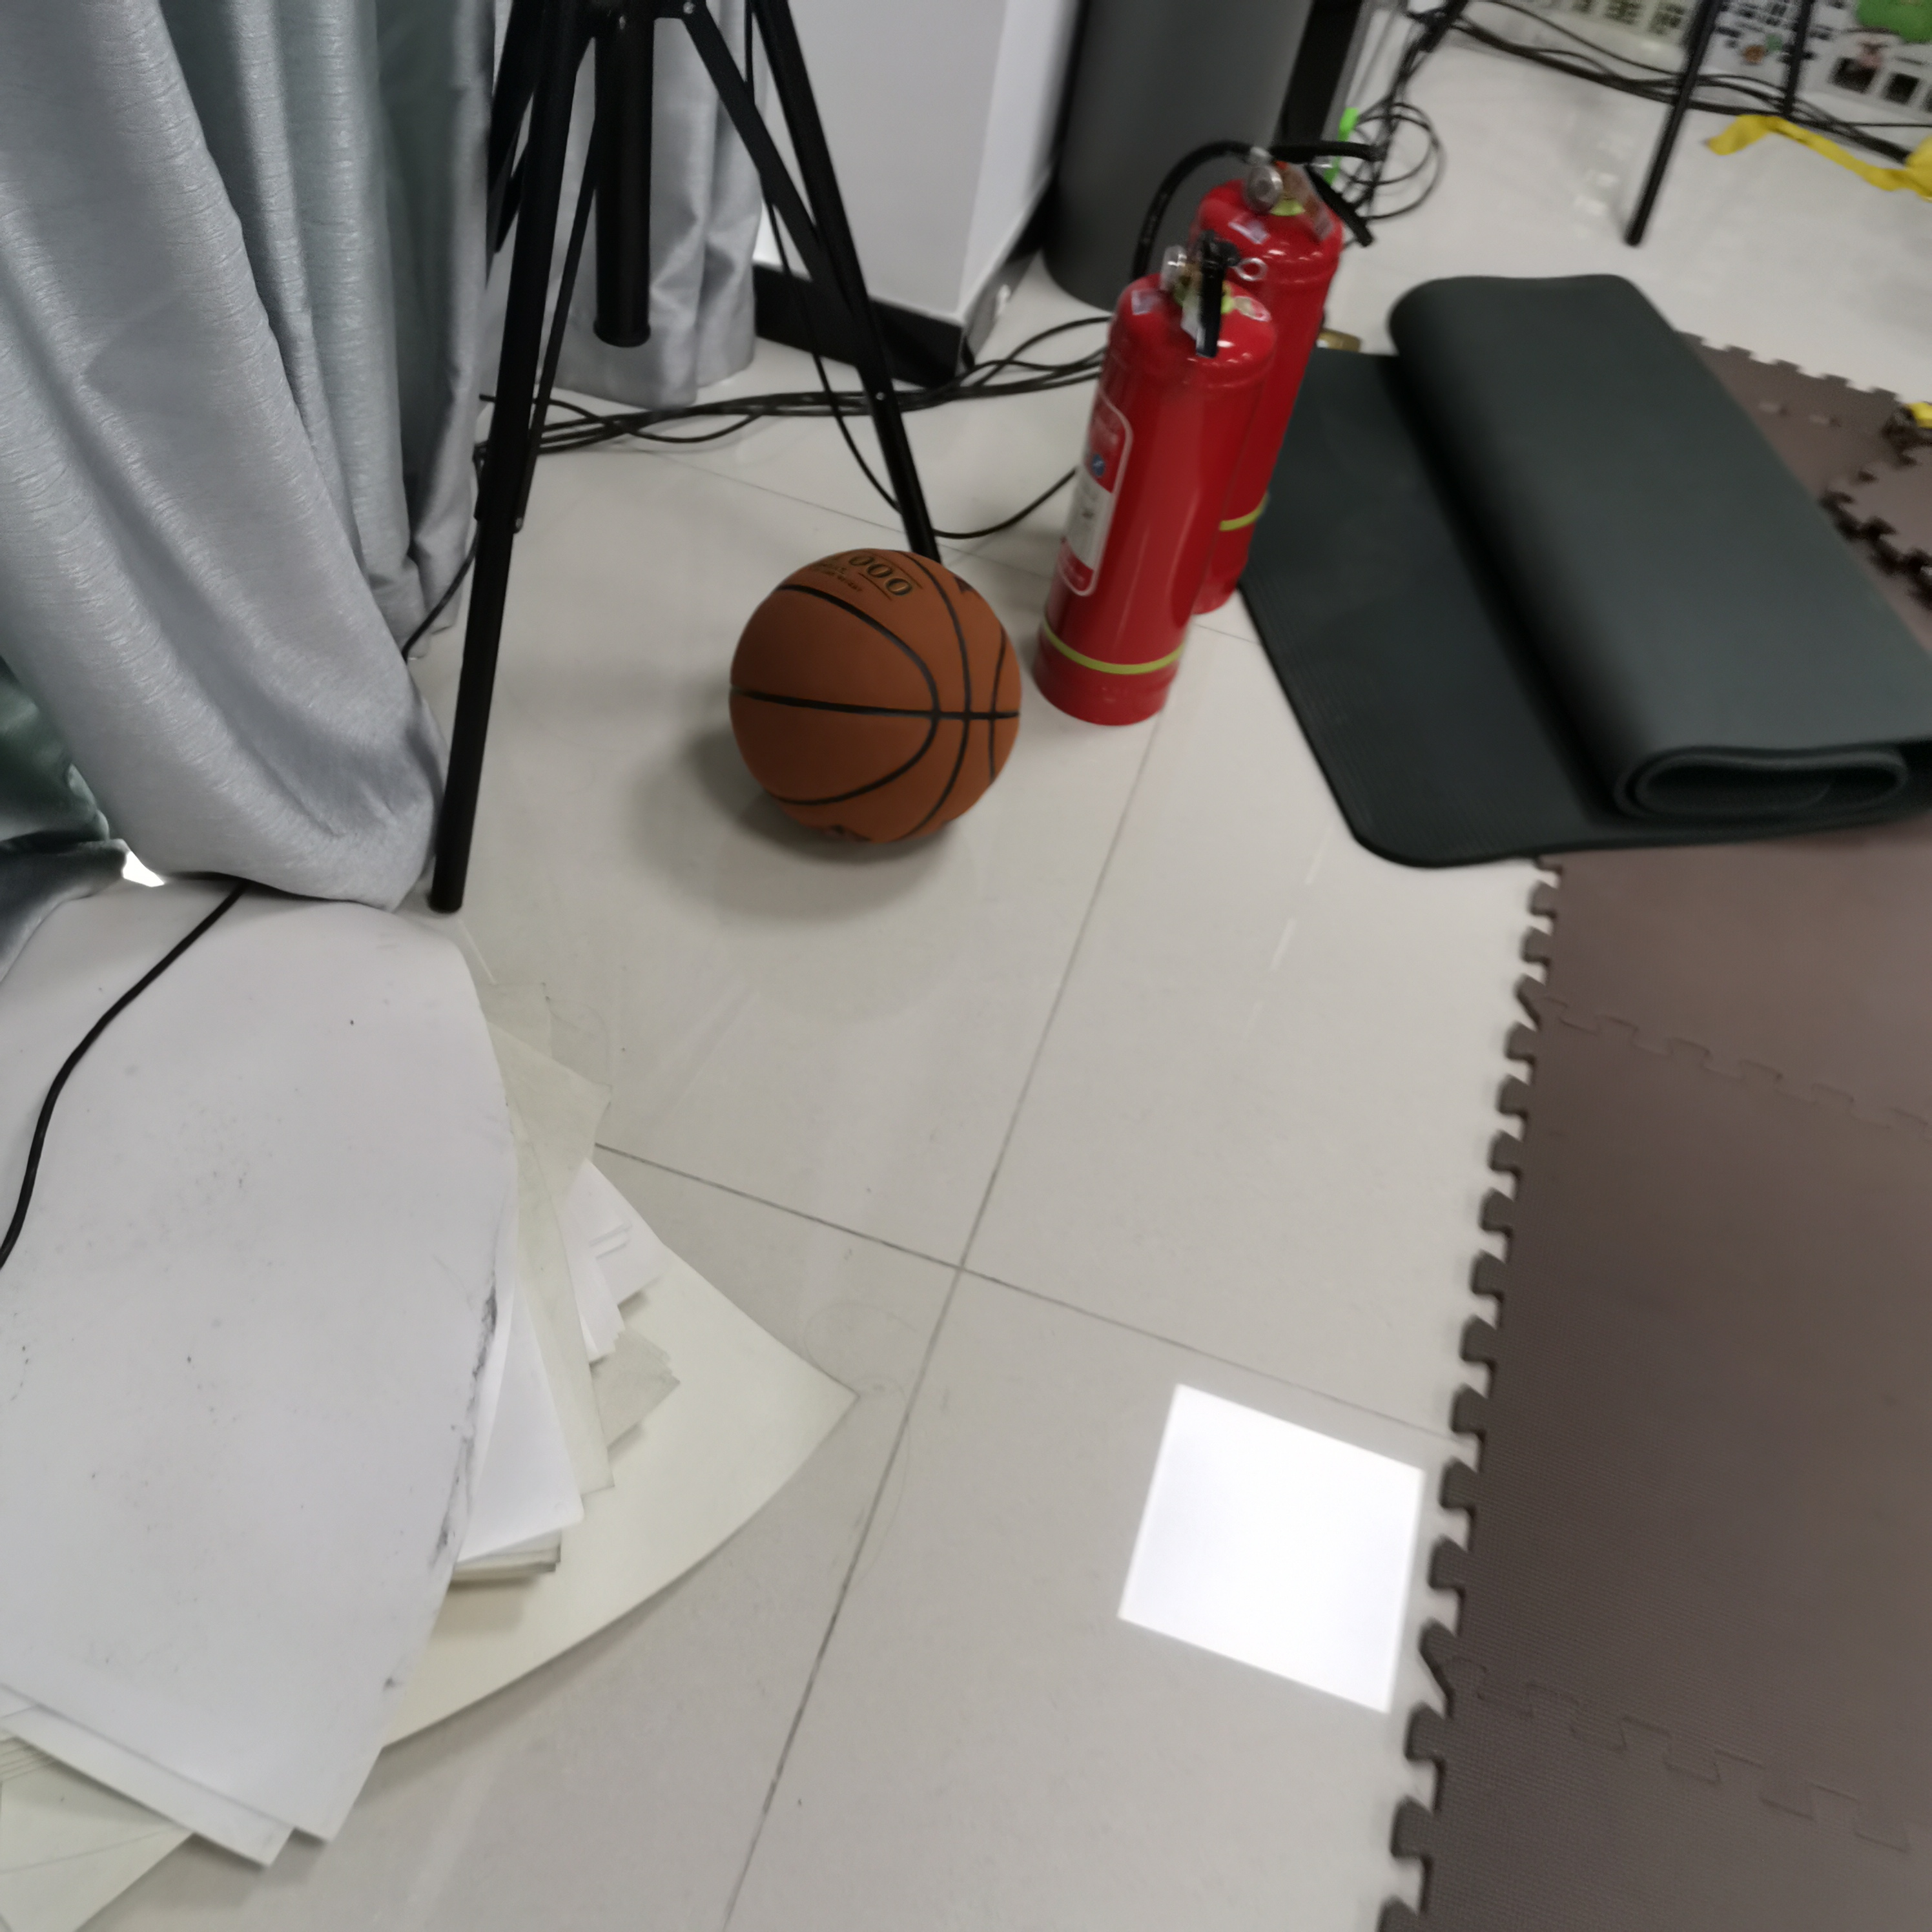basketball: (729, 548, 1023, 844)
